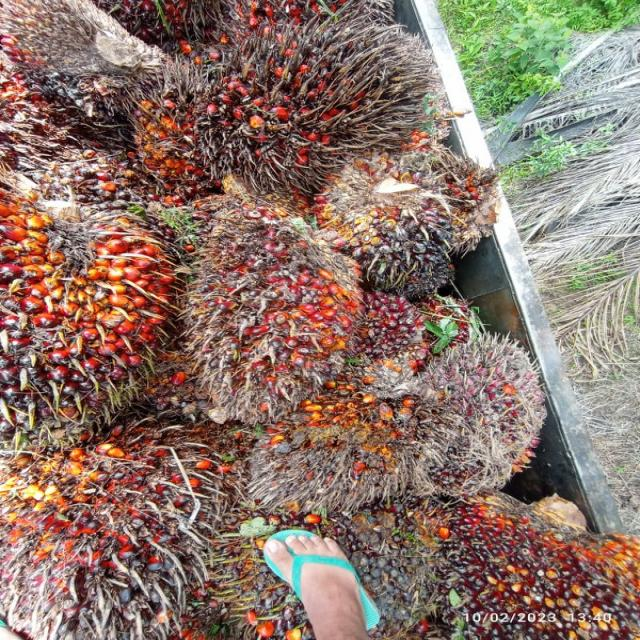fraksi 00: (315, 157, 482, 317)
fraksi 1: (412, 317, 559, 509)
fraksi 3: (0, 412, 220, 640), (0, 183, 170, 438)
fraksi 4: (165, 0, 427, 200), (173, 199, 391, 409), (233, 388, 415, 520)
